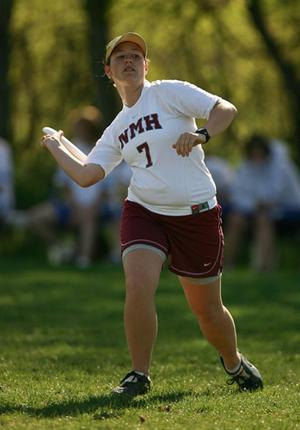person: (41, 40, 263, 400)
